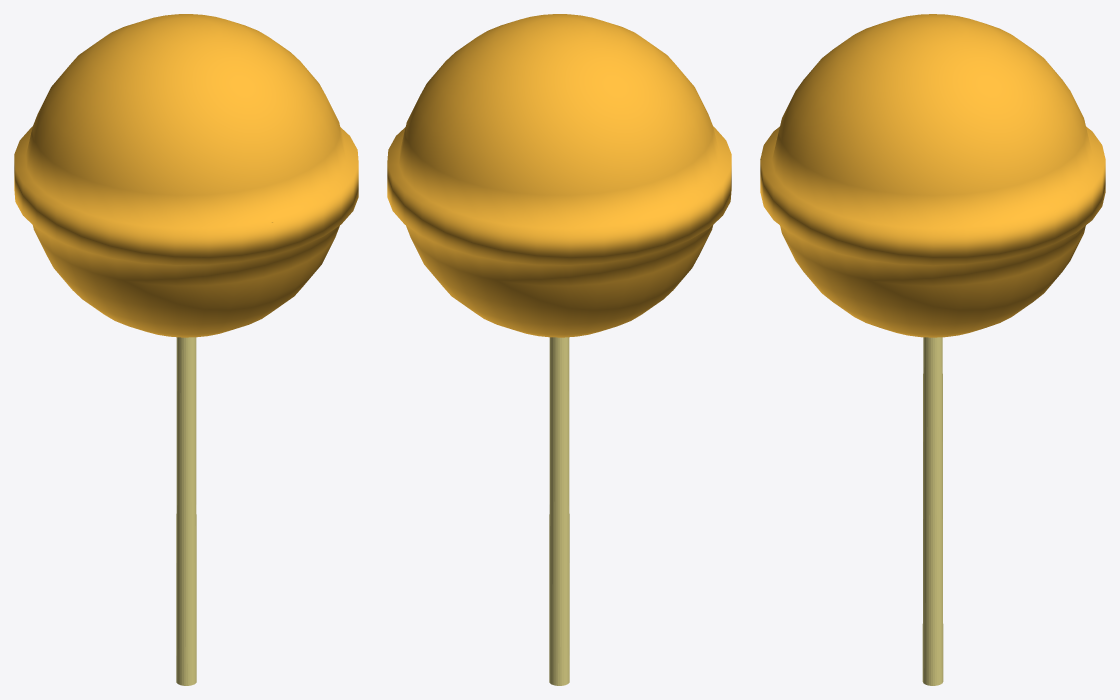
The model's file is LollipopTree.fbx.
The picture shows the model from 3 angles, left to right: view 1: azimuth 30°, elevation 25°; view 2: azimuth 150°, elevation 25°; view 3: azimuth 270°, elevation 25°; orthographic projection.
Visible parts, largest first — view 1: Sphere, Cylinder; view 2: Sphere, Cylinder; view 3: Sphere, Cylinder.
Part boxes in pixels (x1,y1,x2,y2): Sphere: [14, 14, 358, 337]; Cylinder: [176, 337, 196, 685]; Sphere: [387, 14, 731, 337]; Cylinder: [549, 337, 569, 685]; Sphere: [760, 14, 1105, 337]; Cylinder: [922, 337, 943, 685].
Bounding box in the file's own units: 213 × 445 × 213.
1 material, 1 textured.
